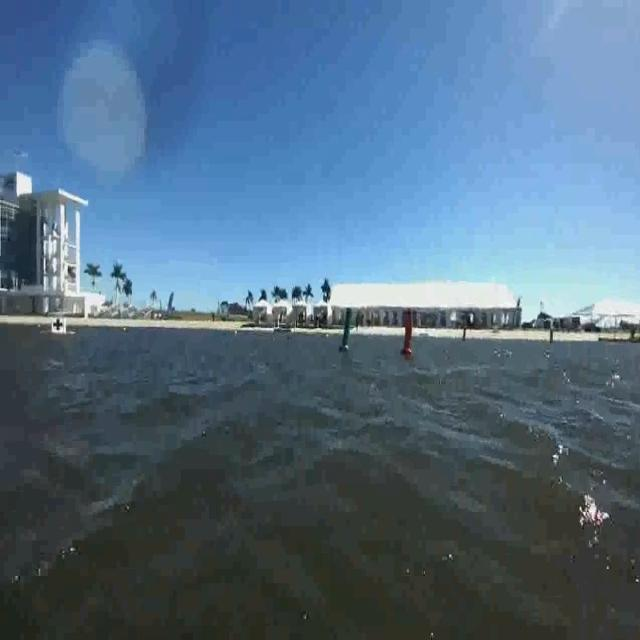green-column-buoy: (338, 304, 357, 352)
red-column-buoy: (400, 311, 415, 357)
